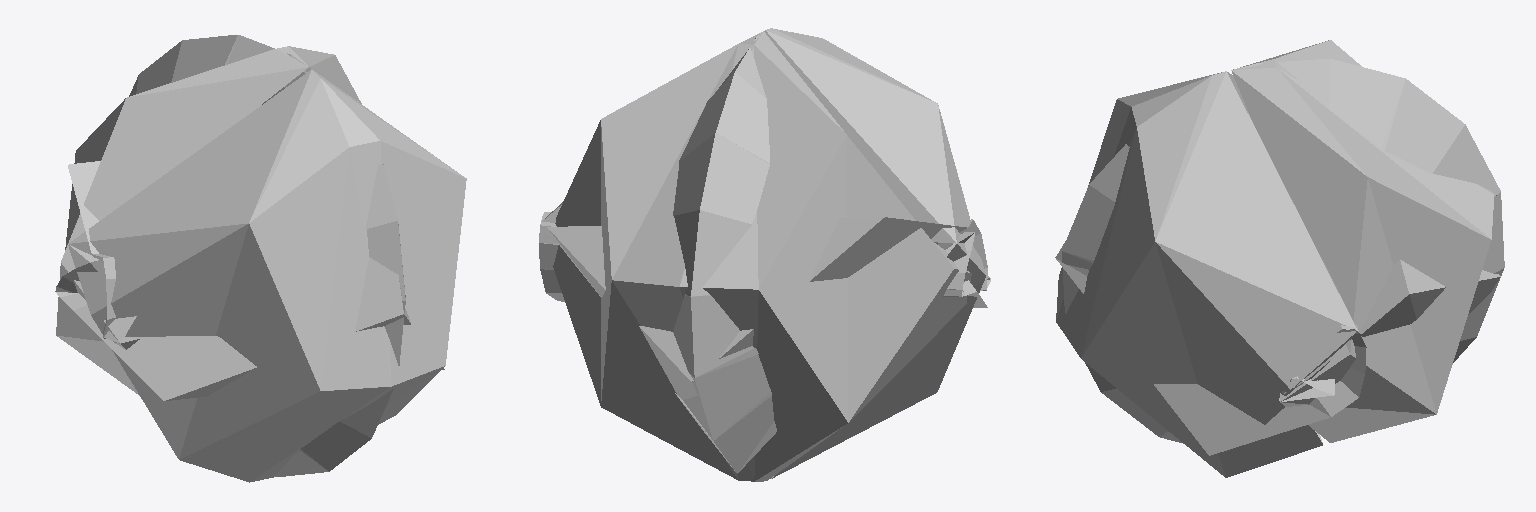
The model's file is Lamp MELODI.obj.
3 renders of one model, left to right at view 1: azimuth 30°, elevation 25°; view 2: azimuth 150°, elevation 25°; view 3: azimuth 270°, elevation 25°, orthographic.
Parts seen in each view (by area): view 1: s.0015; view 2: s.0015; view 3: s.0015.
Boxes of the visible parts, x1,y1,x2,y2 form: s.0015: [55, 35, 466, 482]; s.0015: [539, 28, 990, 481]; s.0015: [1055, 40, 1504, 477].
Bounding box in the file's own units: 5.23 × 5.19 × 5.15.